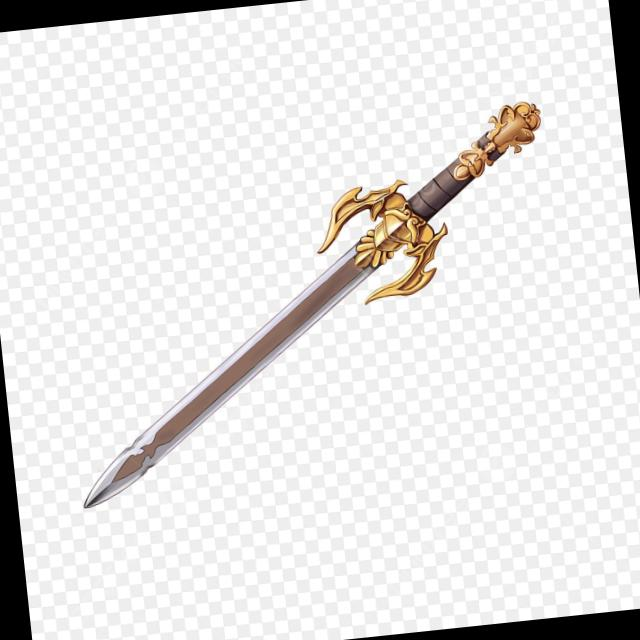Weapon: (39, 91, 578, 513)
